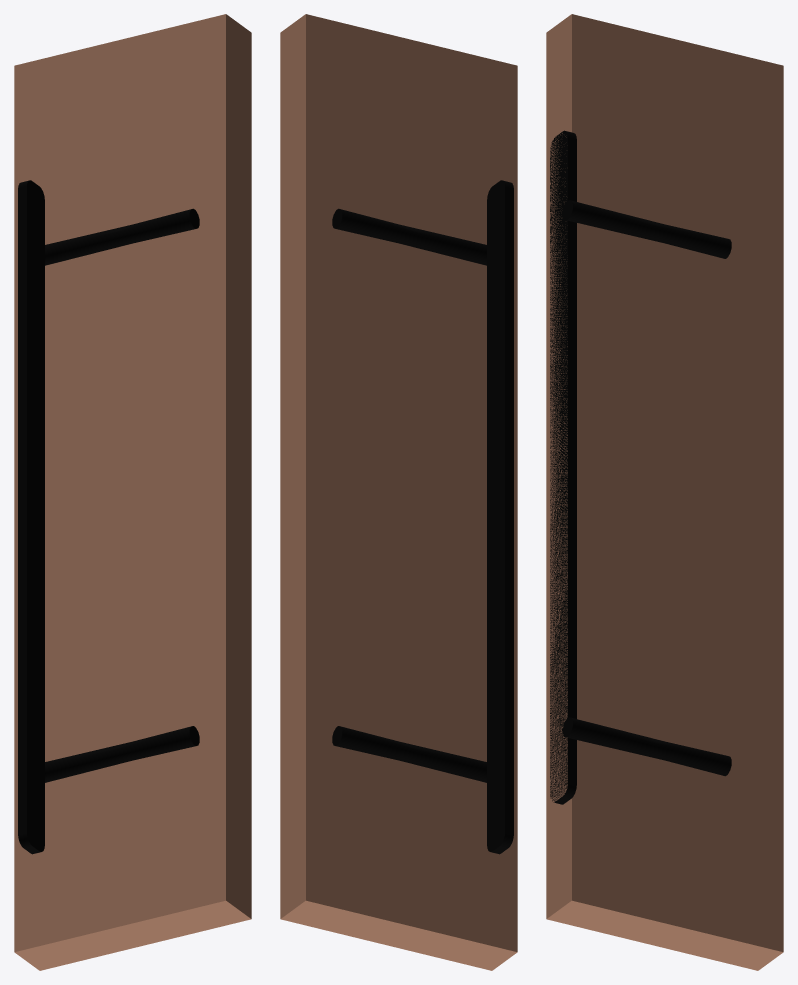
File: Aksel-Wood-Floating-Shelves.std.glb
3 views of the same model, side by side, from view 1: azimuth 30°, elevation 25°; view 2: azimuth 150°, elevation 25°; view 3: azimuth 330°, elevation 25° (orthographic).
Visible parts, largest first — view 1: Bracket Assembly; view 2: Bracket Assembly; view 3: Bracket Assembly.
Part boxes in pixels (box(x1,y1,x2,y2)): Bracket Assembly: box(14, 14, 251, 970); Bracket Assembly: box(280, 14, 517, 970); Bracket Assembly: box(546, 14, 783, 970).
Bounding box in the file's own units: 0.1524 × 0.6096 × 0.0318.
